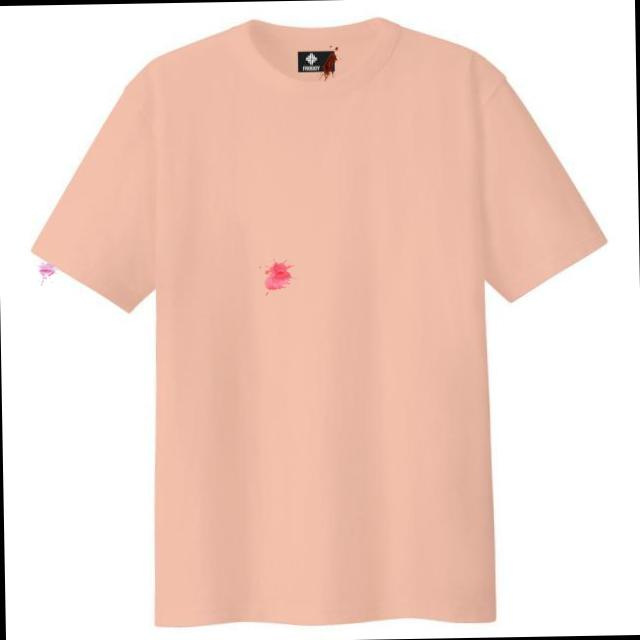stain: (260, 250, 300, 297), (315, 46, 348, 88), (36, 255, 66, 290)
